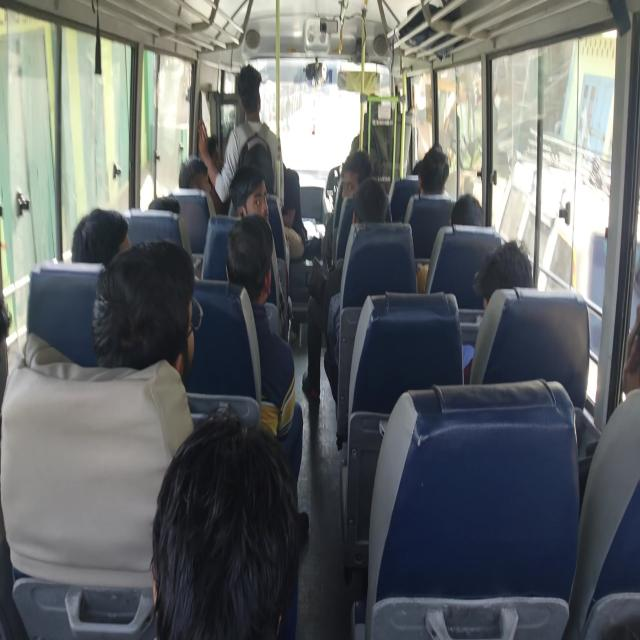person: (157, 428, 332, 640), (97, 252, 225, 387), (419, 141, 473, 234), (0, 264, 30, 407), (265, 167, 306, 267), (81, 206, 139, 273), (480, 250, 544, 307), (221, 219, 268, 289), (356, 164, 394, 230), (454, 166, 502, 216), (237, 62, 273, 124), (173, 161, 218, 210), (341, 139, 376, 191), (233, 173, 268, 214), (150, 192, 182, 224), (200, 133, 224, 164), (408, 159, 438, 183)
